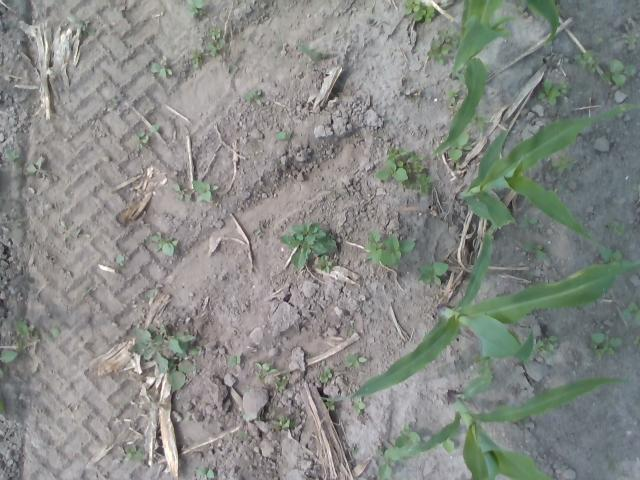Maize: (318, 223, 640, 402), (454, 102, 640, 262), (402, 368, 626, 480), (432, 0, 560, 160)
Weeds: (127, 322, 195, 376), (278, 220, 338, 274), (374, 148, 434, 194), (0, 318, 60, 362), (362, 229, 415, 268), (424, 29, 460, 64), (600, 59, 636, 88), (166, 360, 197, 392), (588, 332, 622, 359), (536, 78, 570, 105), (377, 449, 406, 480), (447, 132, 473, 166), (148, 231, 178, 257), (418, 260, 448, 286), (296, 43, 328, 67), (403, 0, 436, 23), (572, 49, 601, 75), (204, 26, 226, 60), (392, 424, 421, 448), (192, 179, 218, 203), (134, 124, 160, 148), (600, 246, 630, 266), (520, 239, 548, 260), (67, 16, 96, 36), (532, 334, 558, 356), (254, 360, 277, 382), (468, 111, 490, 134), (474, 353, 495, 377), (440, 430, 460, 454), (620, 300, 640, 324), (550, 154, 576, 172), (270, 414, 294, 433), (150, 59, 173, 78), (171, 182, 192, 202), (342, 353, 368, 369), (185, 0, 206, 18), (507, 0, 529, 16), (446, 88, 460, 112), (28, 156, 46, 174), (194, 466, 216, 480), (272, 374, 289, 392), (243, 88, 261, 105), (4, 149, 24, 164), (125, 446, 146, 460), (225, 56, 241, 74), (190, 48, 203, 70), (352, 396, 366, 416), (609, 220, 626, 236), (318, 364, 332, 383), (520, 217, 540, 227), (228, 354, 242, 366), (0, 392, 6, 416), (546, 185, 562, 194), (624, 34, 638, 44), (275, 132, 292, 140), (190, 344, 201, 356), (236, 430, 248, 441), (116, 254, 126, 266), (324, 400, 334, 412), (632, 334, 640, 346), (439, 364, 446, 374), (0, 366, 5, 379), (60, 220, 67, 228), (351, 447, 359, 454), (597, 36, 604, 42), (631, 185, 638, 191)
